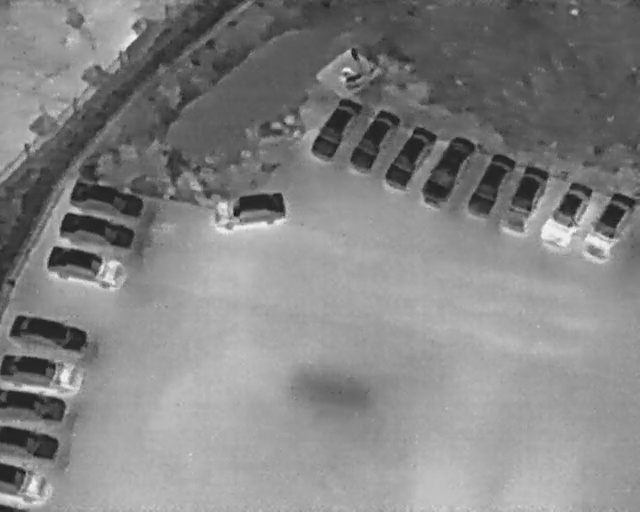Car: (413, 129, 483, 214), (536, 173, 601, 253), (495, 158, 558, 240), (343, 100, 408, 179), (378, 118, 443, 197), (575, 187, 639, 267), (460, 145, 522, 225), (41, 240, 129, 295), (305, 91, 367, 168), (55, 206, 142, 257), (67, 173, 149, 226), (6, 310, 92, 357), (211, 187, 289, 235), (0, 353, 80, 393), (0, 386, 68, 425), (0, 421, 60, 463), (0, 461, 51, 504)
